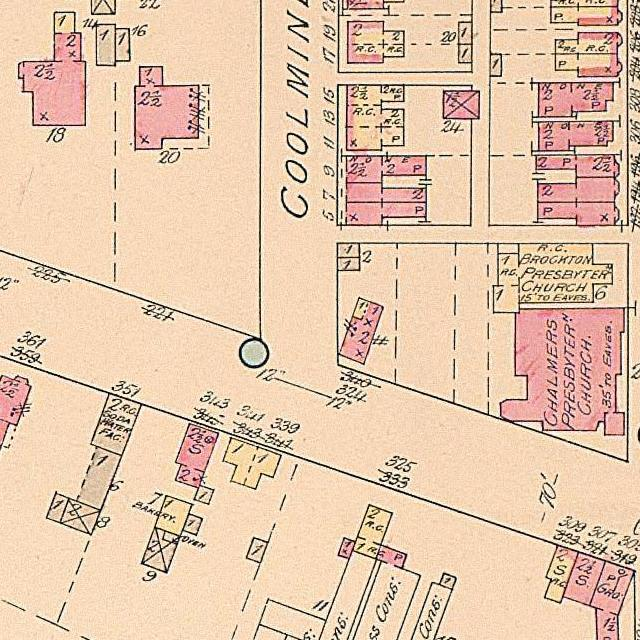building-footprints: (500, 308, 624, 435), (493, 243, 612, 313), (18, 12, 85, 125), (352, 544, 420, 640), (134, 67, 198, 149), (319, 551, 376, 640), (346, 85, 403, 150), (589, 561, 634, 640), (175, 423, 218, 504), (90, 393, 141, 456), (223, 438, 281, 490), (339, 298, 383, 364), (538, 83, 613, 117), (410, 582, 452, 640), (347, 22, 404, 63), (563, 552, 605, 606), (538, 121, 613, 151), (0, 375, 31, 446), (352, 504, 392, 559), (346, 156, 426, 183), (537, 178, 618, 203), (544, 545, 578, 603), (536, 155, 619, 178), (537, 202, 619, 225), (141, 527, 180, 573), (346, 203, 426, 225), (346, 183, 426, 203), (154, 496, 192, 536), (555, 54, 621, 77), (60, 498, 100, 535), (555, 33, 622, 54), (550, 6, 622, 25), (443, 91, 478, 119), (96, 25, 115, 66), (46, 493, 69, 523), (246, 538, 268, 563), (347, 0, 404, 9), (115, 28, 130, 61), (550, 0, 617, 7), (182, 513, 202, 535), (337, 538, 355, 559), (90, 0, 115, 14), (337, 243, 359, 257), (337, 257, 359, 271), (458, 22, 472, 44), (439, 573, 456, 589), (458, 45, 471, 63), (490, 55, 500, 76), (490, 0, 501, 12)
